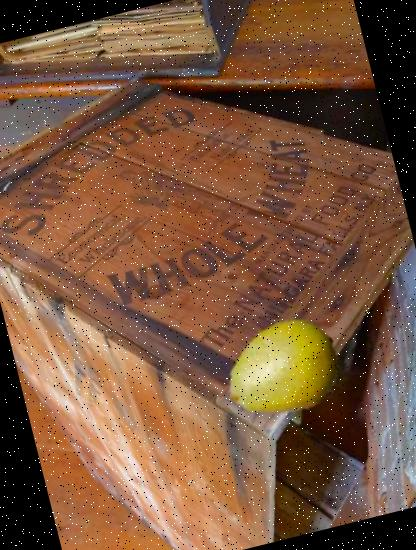Pear: (212, 300, 354, 442)
